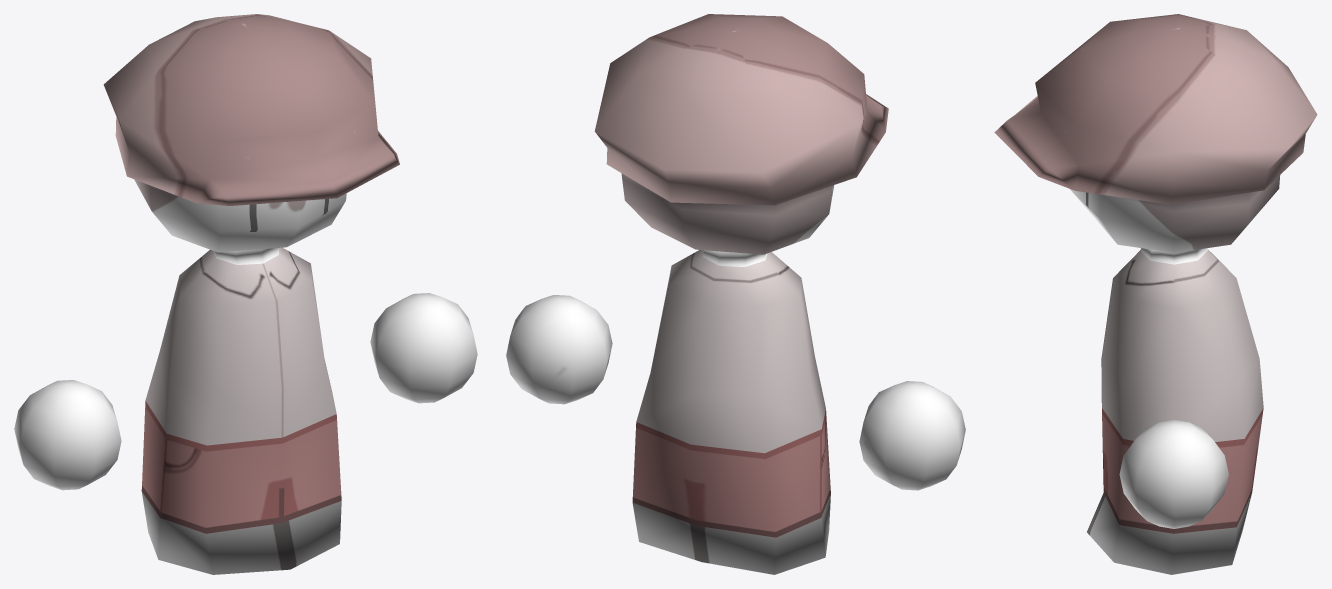
File: motion_syounen_jikentai.fbx
3 renders of one model, left to right at view 1: azimuth 30°, elevation 25°; view 2: azimuth 150°, elevation 25°; view 3: azimuth 270°, elevation 25°, orthographic.
Parts seen in each view (by area): view 1: pSphere1, polySurface1; view 2: pSphere1, polySurface1; view 3: pSphere1, polySurface1.
Boxes of the visible parts, x1=… form: pSphere1: x1=103, y1=14, x2=399, y2=574; polySurface1: x1=14, y1=293, x2=477, y2=490; pSphere1: x1=594, y1=14, x2=888, y2=574; polySurface1: x1=506, y1=295, x2=965, y2=490; pSphere1: x1=994, y1=14, x2=1317, y2=574; polySurface1: x1=1119, y1=419, x2=1228, y2=528.
Bounding box in the file's own units: 3.98 × 4.3 × 2.5.
